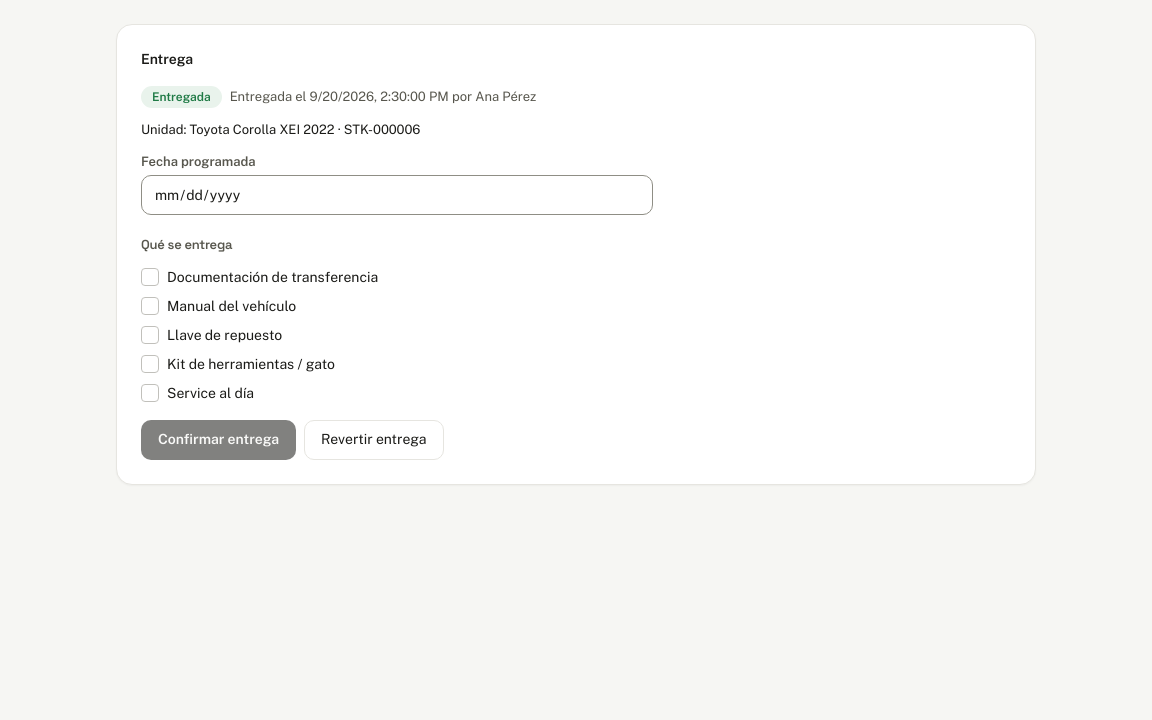
Test: DeliverySection › entregada: revertir pide confirmación; cancelar no manda nada; aceptar la vuelve a pendiente y editable
Click the button "Revertir entrega" at (374, 440), box [304, 420, 444, 460]
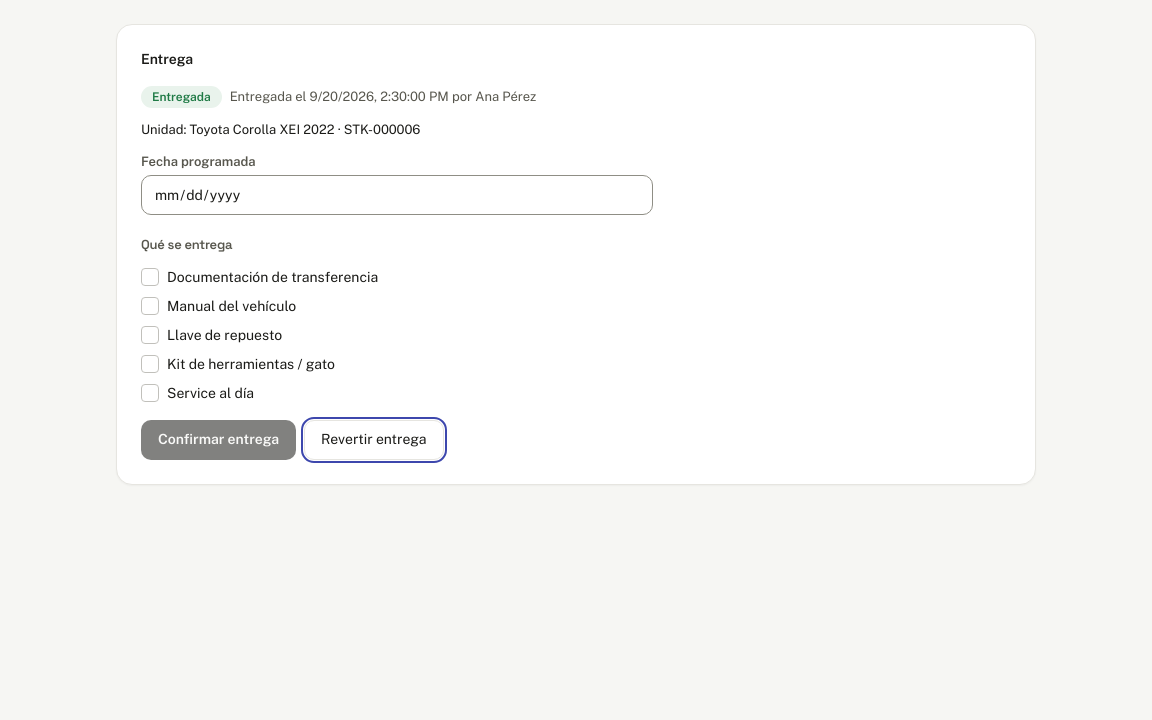
Click the button "Revertir entrega" at (374, 440), box [304, 420, 444, 460]
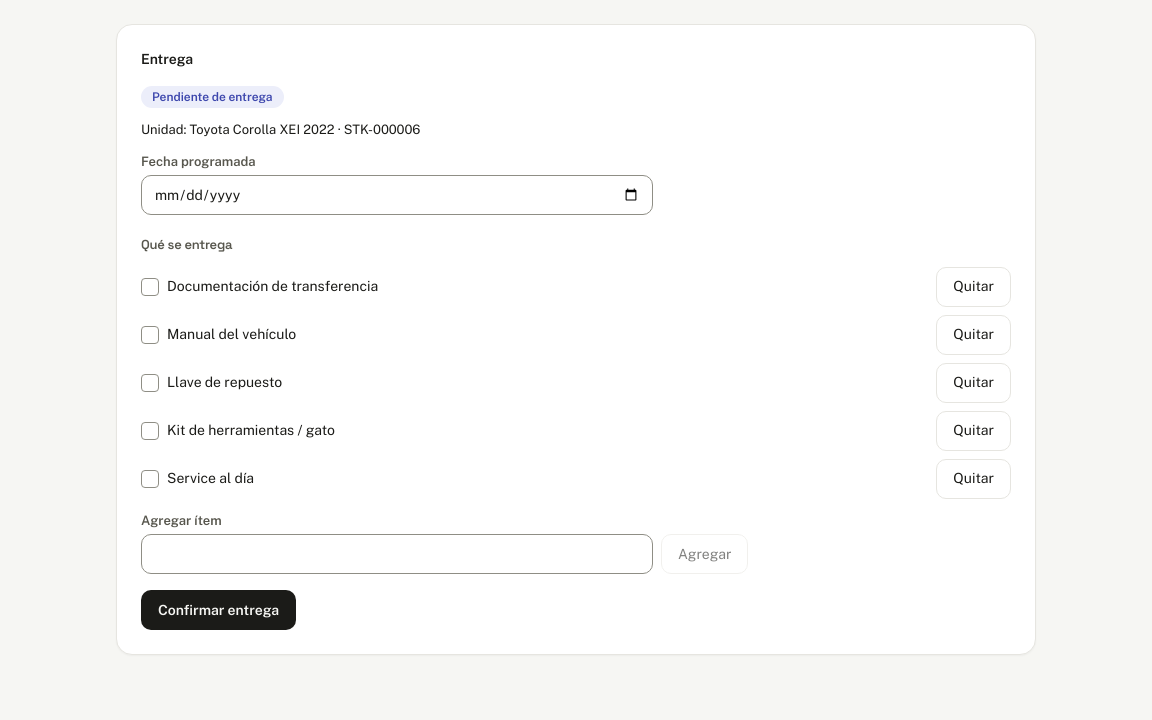
Expected: the text "Pendiente de entrega" is shown, [141, 86, 284, 108]
Expected: the button "Confirmar entrega" is enabled, [141, 590, 296, 630]
Expected: the button "Revertir entrega" is gone
